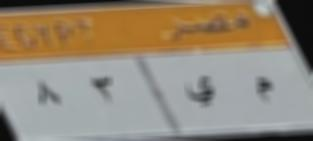3: (89, 70, 119, 113)
8: (35, 78, 64, 113)
meem: (250, 69, 278, 107)
yaa: (178, 70, 218, 108)
